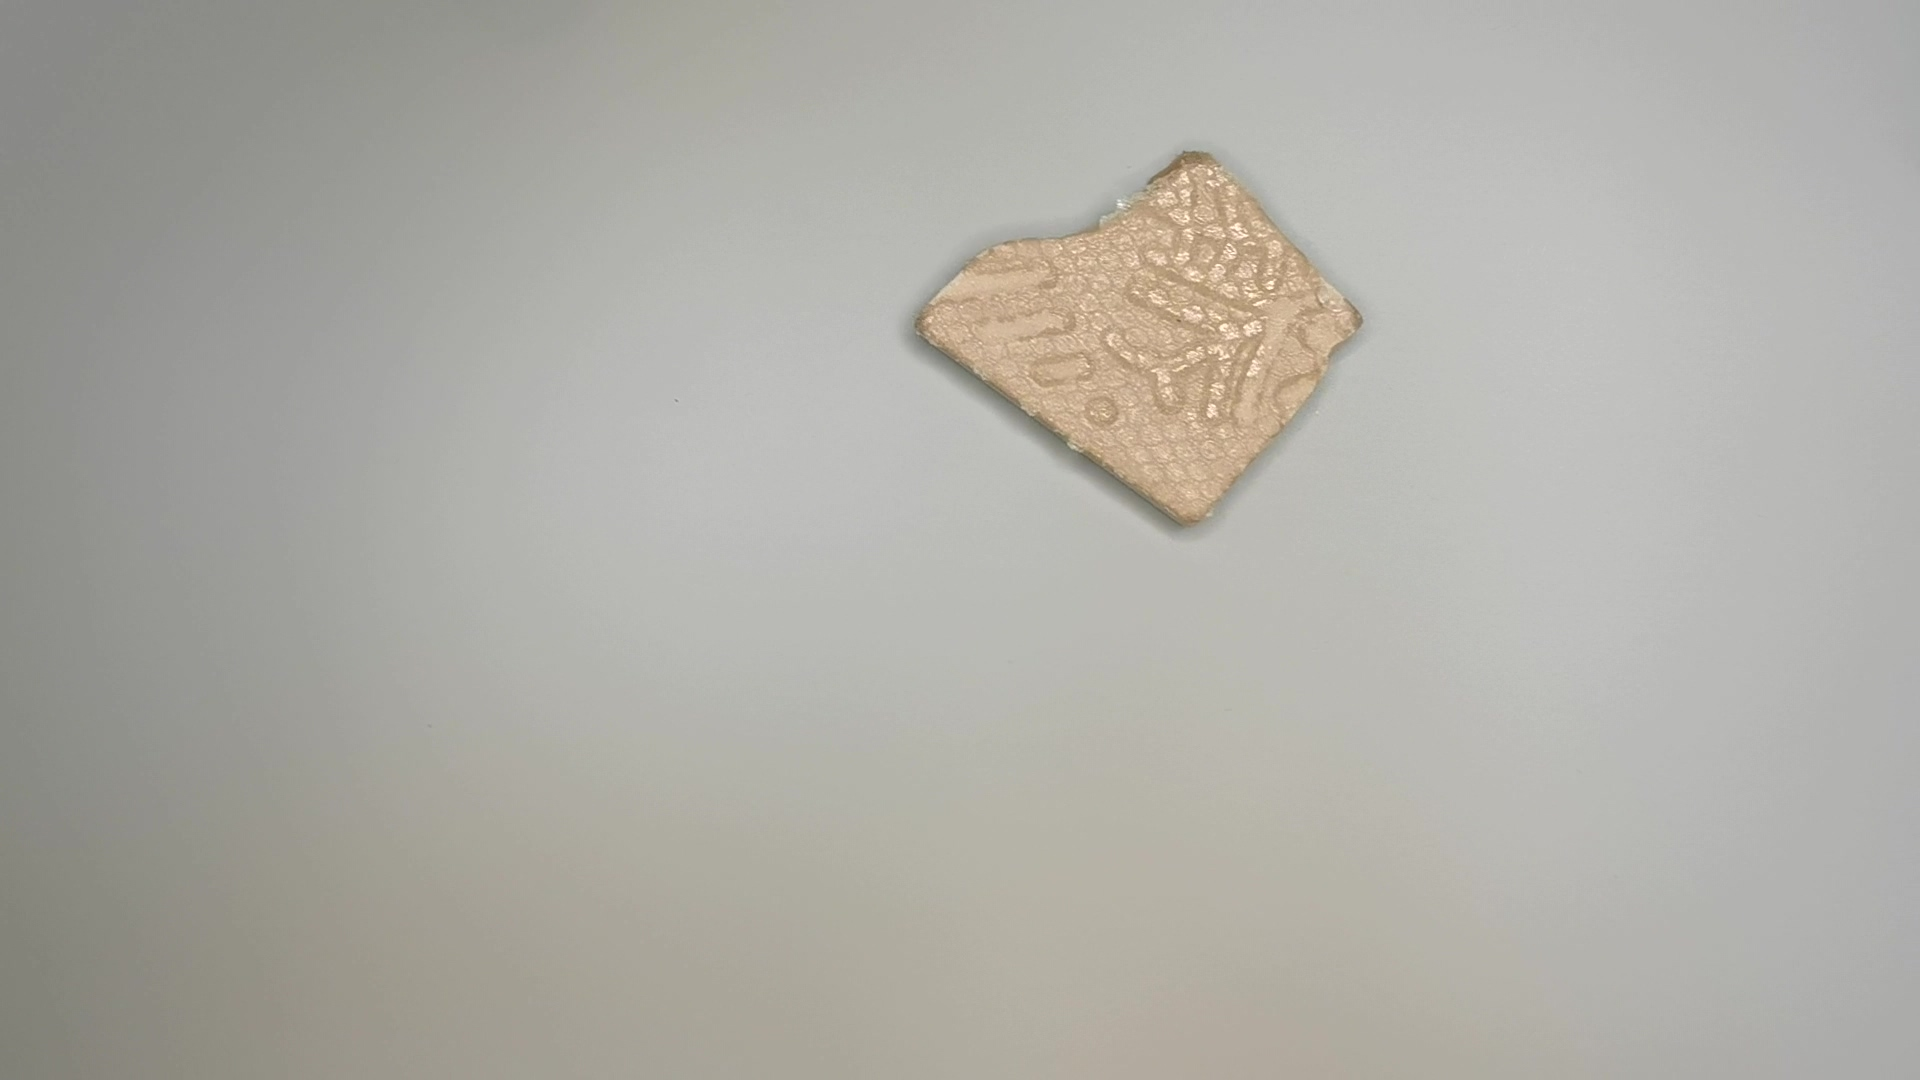ceramic: (913, 150, 1367, 539)
